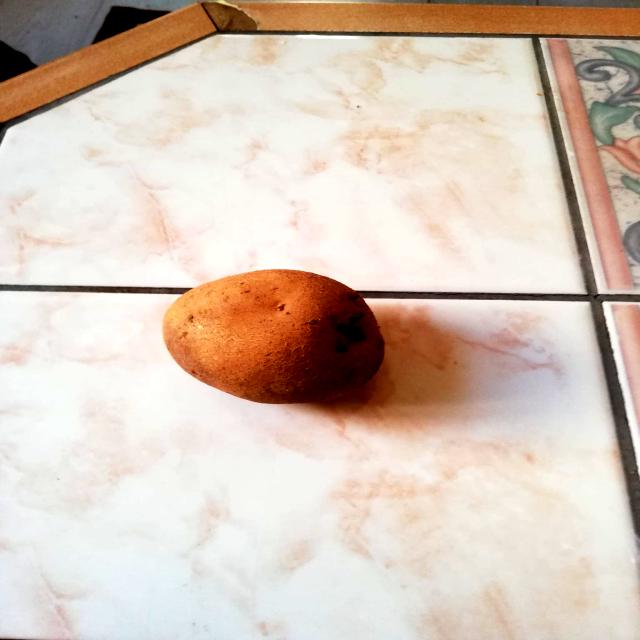potato: (150, 258, 400, 410)
